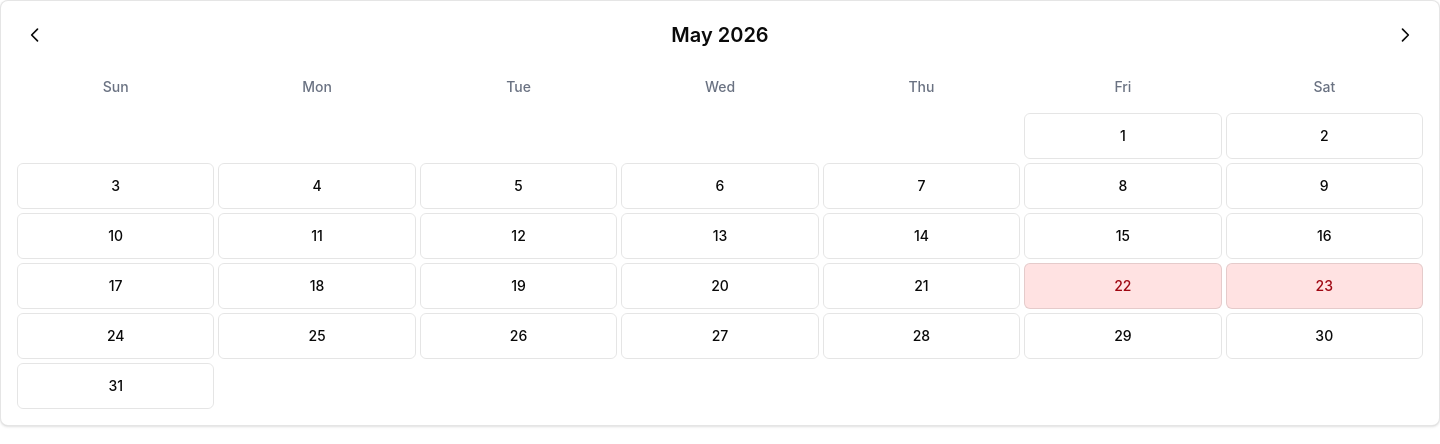
Scenario: navigation › should change month when navigation buttons are clicked
This screenshot has width=1440, height=444.
// This test will fail initially - component needs to be implemented
Click the button named "Next month". click: (1405, 35)
box: [1387,17,1423,53]
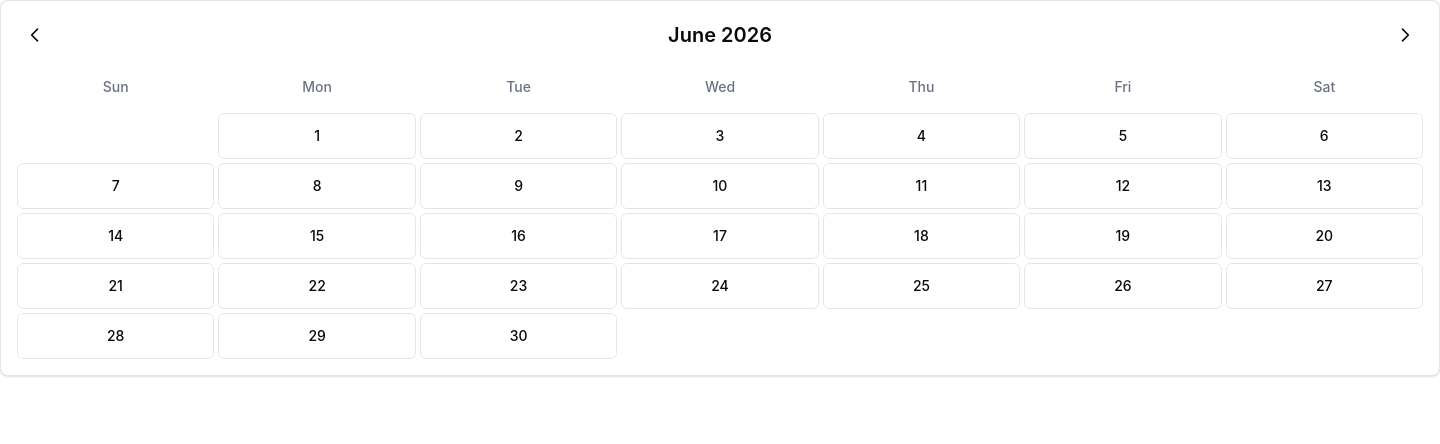
Now the heading "June 2026" is shown, box [668,21,772,49]
